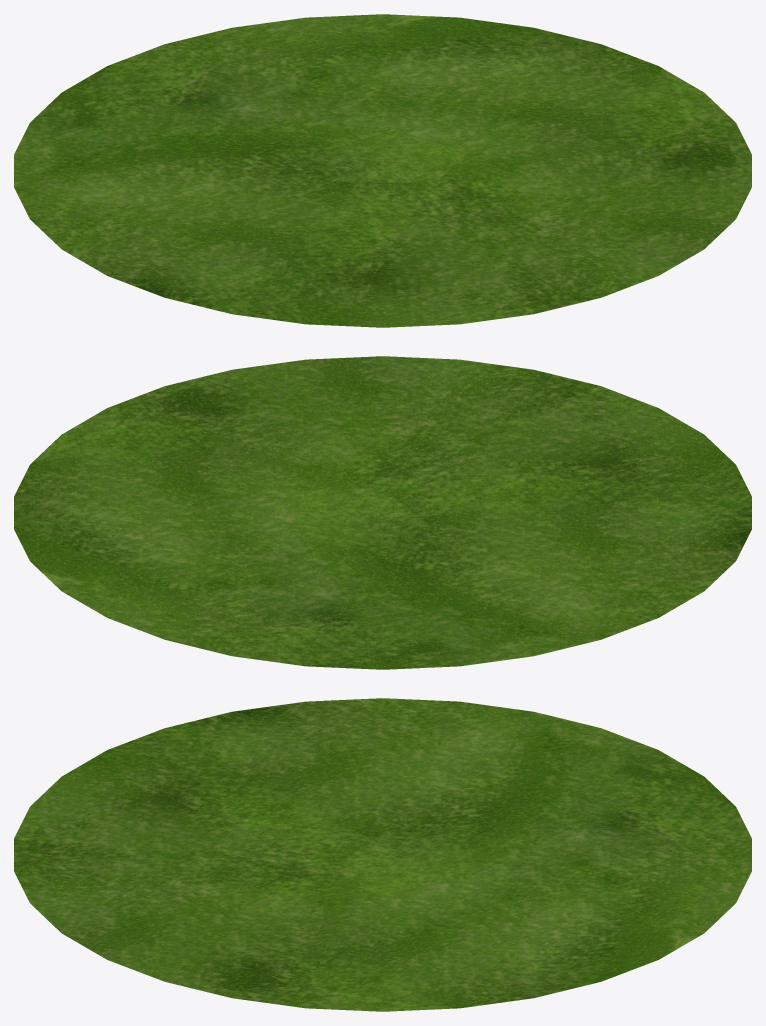
Rendered from map.fbx.
3 renders of one model, top to bottom at view 1: azimuth 30°, elevation 25°; view 2: azimuth 150°, elevation 25°; view 3: azimuth 270°, elevation 25°, orthographic.
Parts seen in each view (by area): view 1: pCylinder3; view 2: pCylinder3; view 3: pCylinder3.
Part boxes in pixels (x1=…): pCylinder3: x1=14, y1=14, x2=751, y2=327; pCylinder3: x1=14, y1=356, x2=751, y2=669; pCylinder3: x1=14, y1=698, x2=751, y2=1011.
Size of the model in its own units: 99800 by 0 by 99254.
